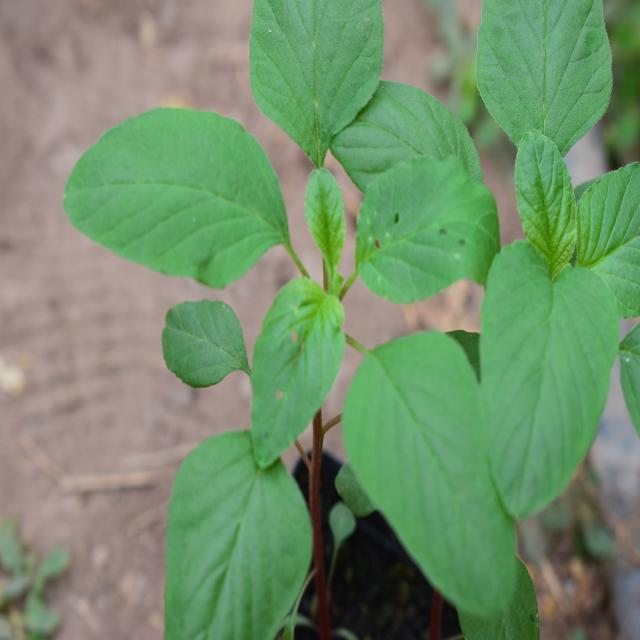pigweed: (77, 12, 521, 600)
